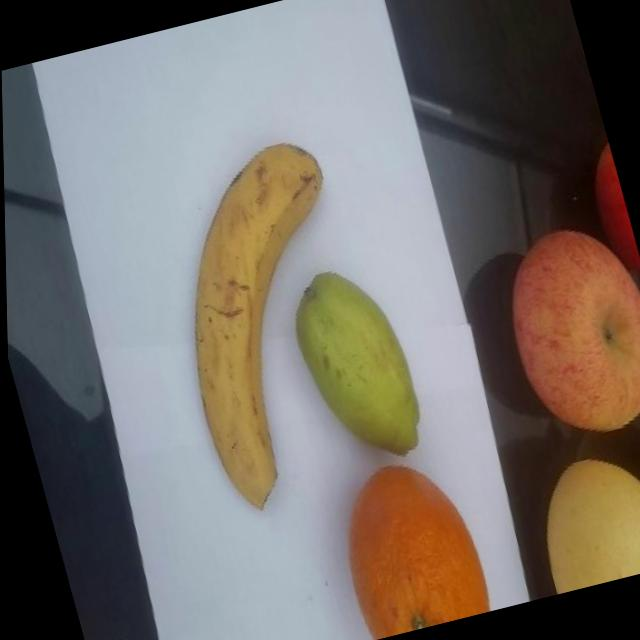Apple: (481, 211, 640, 449), (570, 146, 640, 288)
Banana: (134, 119, 406, 524)
Orange: (315, 446, 492, 640)
